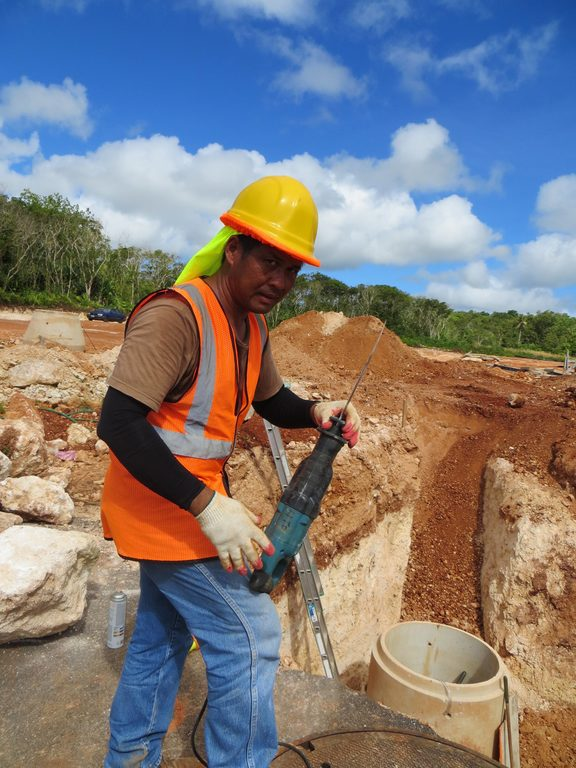hard hat: (222, 173, 321, 267)
high-vis: (100, 278, 271, 559)
